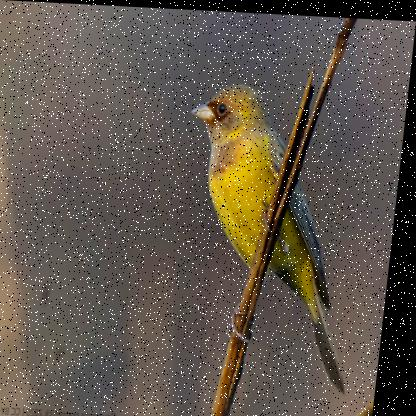Burung: (169, 80, 379, 384)
